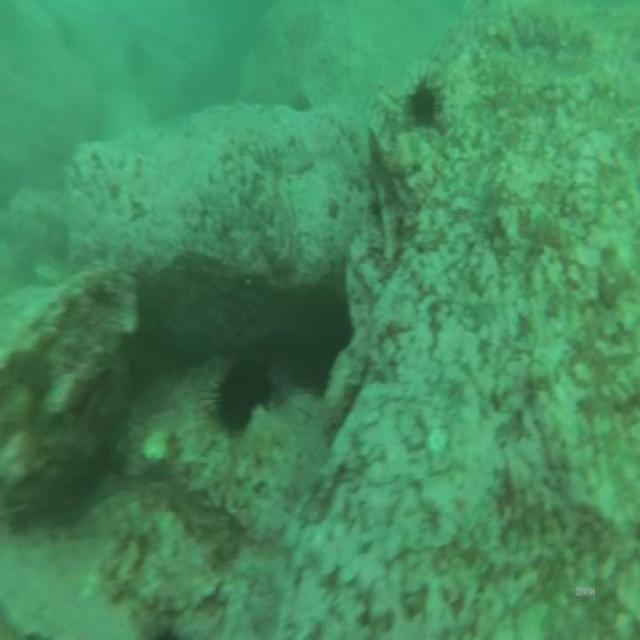echinus: (202, 348, 281, 436), (302, 319, 348, 397), (403, 76, 445, 134), (120, 30, 150, 81), (49, 5, 79, 55), (284, 87, 314, 118)
